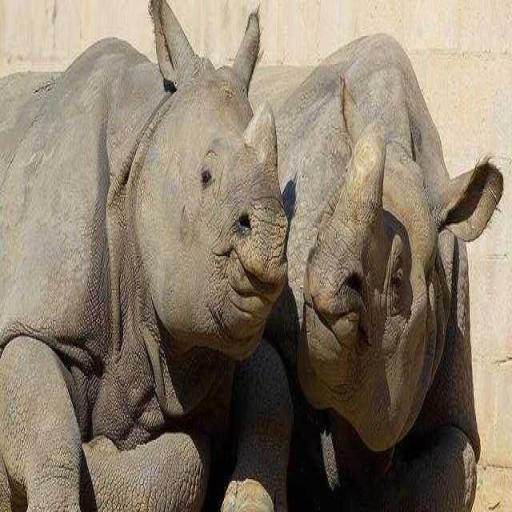Rhino: (0, 0, 290, 509), (245, 30, 503, 507)
